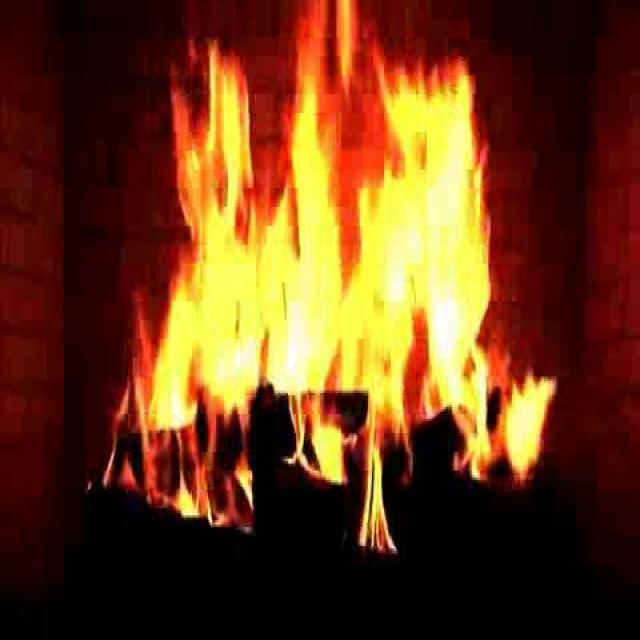Fire: (138, 51, 511, 520)
